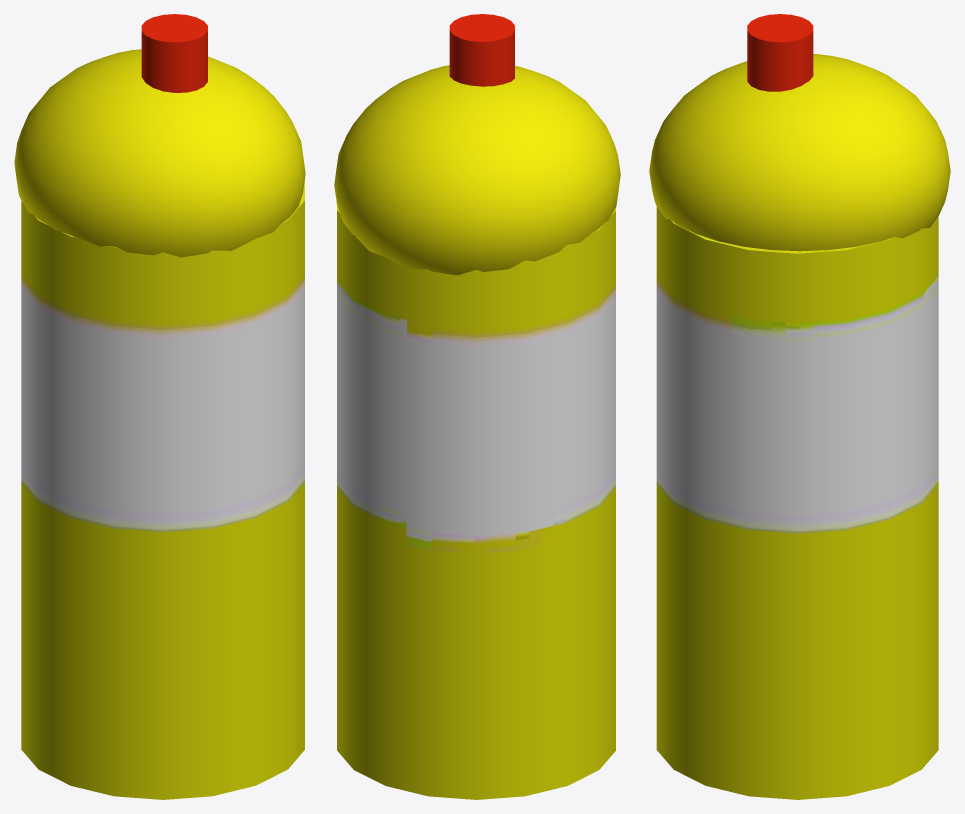
Rendered from Yellowgas.FBX.
3 views of the same model, side by side, from view 1: azimuth 30°, elevation 25°; view 2: azimuth 150°, elevation 25°; view 3: azimuth 270°, elevation 25° (orthographic).
Visible parts, largest first — view 1: Cylinder105, Sphere245, Cylinder106; view 2: Cylinder105, Sphere245, Cylinder106; view 3: Cylinder105, Sphere245, Cylinder106.
Boxes of the visible parts, x1=… form: Cylinder105: x1=21, y1=179, x2=304, y2=799; Sphere245: x1=14, y1=49, x2=305, y2=257; Cylinder106: x1=141, y1=14, x2=207, y2=92; Cylinder105: x1=337, y1=205, x2=615, y2=799; Sphere245: x1=334, y1=65, x2=620, y2=275; Cylinder106: x1=449, y1=14, x2=514, y2=86; Cylinder105: x1=656, y1=206, x2=938, y2=799; Sphere245: x1=649, y1=54, x2=950, y2=251; Cylinder106: x1=747, y1=14, x2=813, y2=91.
Bounding box in the file's own units: 6.11 × 6.38 × 16.65.
3 materials, 3 textured.
